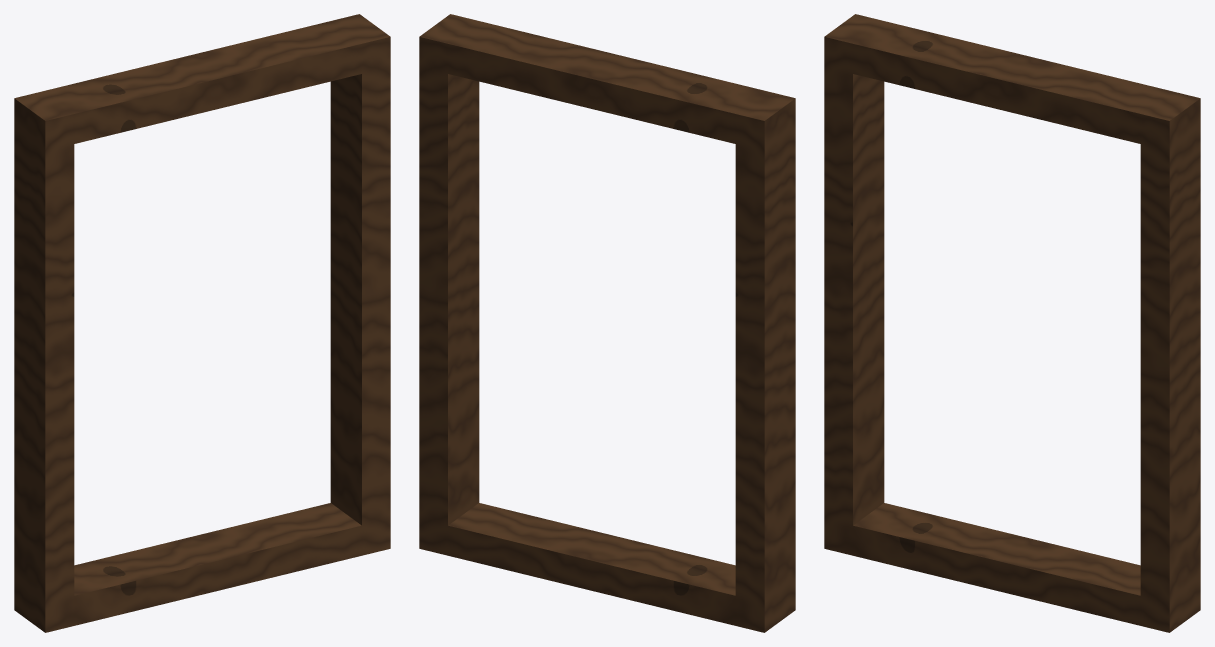
The model's file is window_frame_standard.glb.
3 renders of one model, left to right at view 1: azimuth 30°, elevation 25°; view 2: azimuth 150°, elevation 25°; view 3: azimuth 330°, elevation 25°, orthographic.
Parts seen in each view (by area): view 1: jamb_l, jamb_r, head, stool; view 2: jamb_l, jamb_r, head, stool; view 3: jamb_r, jamb_l, head, stool.
Boxes of the visible parts, x1,y1,x2,y2 form: jamb_l: [14, 91, 74, 632]; jamb_r: [330, 14, 390, 555]; head: [43, 21, 361, 143]; stool: [74, 503, 361, 625]; jamb_l: [735, 91, 795, 632]; jamb_r: [419, 14, 479, 555]; head: [448, 21, 766, 143]; stool: [448, 503, 735, 625]; jamb_r: [1140, 91, 1200, 632]; jamb_l: [824, 14, 884, 555]; head: [853, 21, 1171, 143]; stool: [853, 503, 1140, 625].
Bounding box in the file's own units: 0.96 × 1.36 × 0.15.
Materials: 1 (1 with a texture image).
